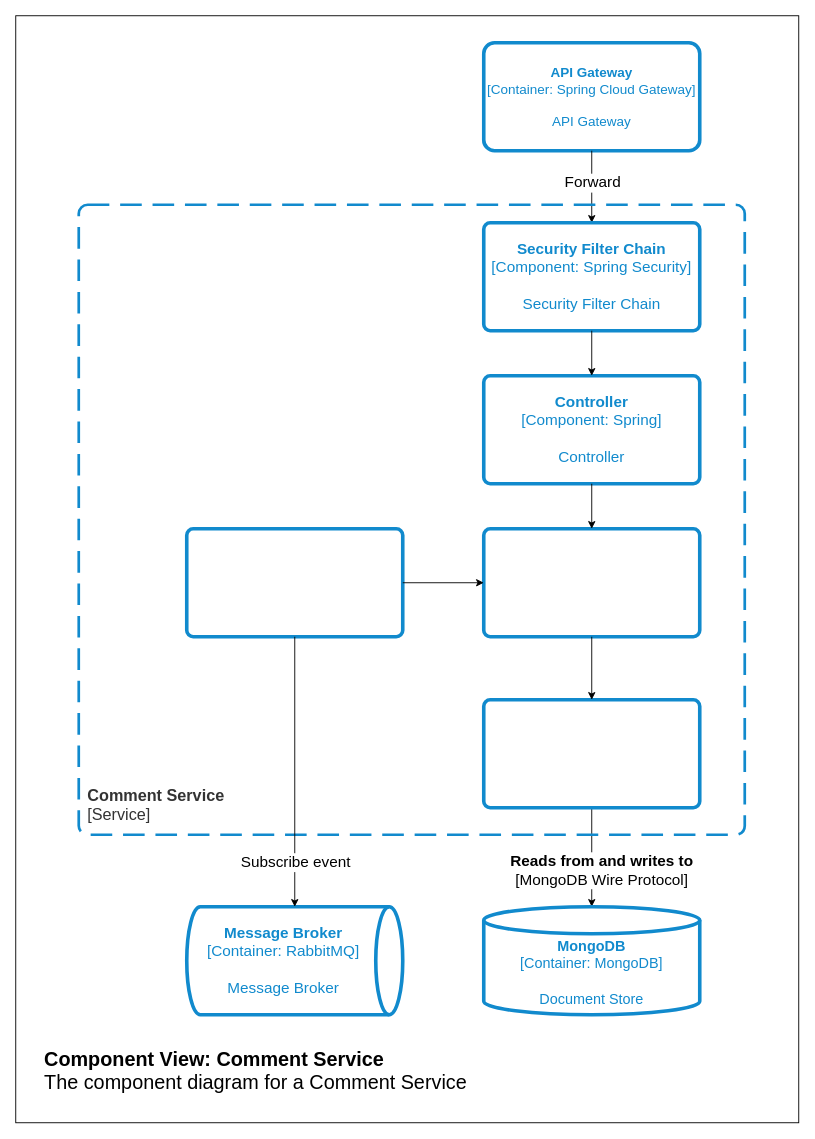
The diagram is 815 pixels wide and 1139 high, and some of its shapes have lost their labels. The centre of each missing label's shape, as x and y in pixels:
"Consumer [Component: Spring] Consumer" goes at [294,582].
"Repository [Component: Spring] Repository" goes at [591,753].
"Service [Component: Spring] Service" goes at [591,582].
